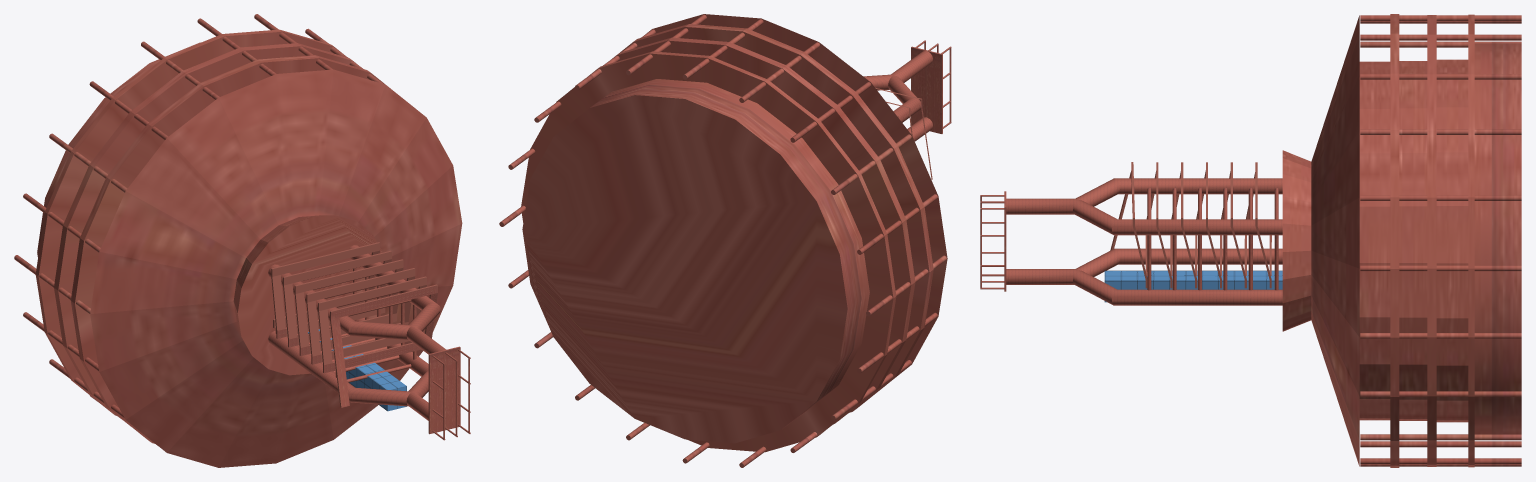
The model's file is build10.gltf.
3 views of the same model, side by side, from view 1: azimuth 30°, elevation 25°; view 2: azimuth 150°, elevation 25°; view 3: azimuth 270°, elevation 25° (orthographic). The views are drawn at different scales.
Visible parts, largest first — view 1: Plane001; view 2: Plane001; view 3: Plane001.
Part boxes in pixels (x1=…): Plane001: x1=14, y1=14, x2=470, y2=467; Plane001: x1=499, y1=14, x2=951, y2=467; Plane001: x1=980, y1=14, x2=1521, y2=467.
Bounding box in the file's own units: 76.46 × 76.46 × 90.5.
Materials: 3 (3 with a texture image).
